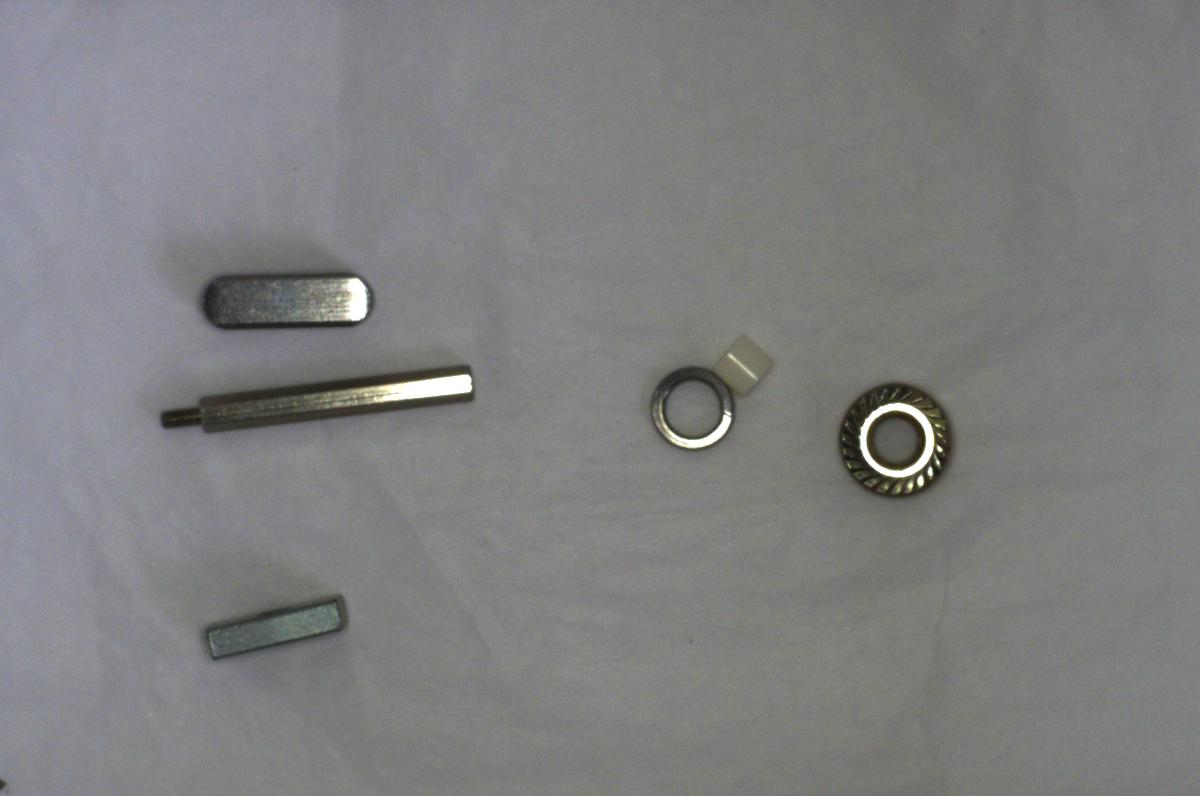Flange nut: (830, 374, 958, 502)
Hexagonal steel column: (155, 355, 484, 439)
Keybar: (186, 256, 384, 335)
Plastic cushion pillar: (711, 326, 780, 402)
Rectangular nut: (195, 586, 360, 662)
Spring washer: (645, 361, 734, 450)
